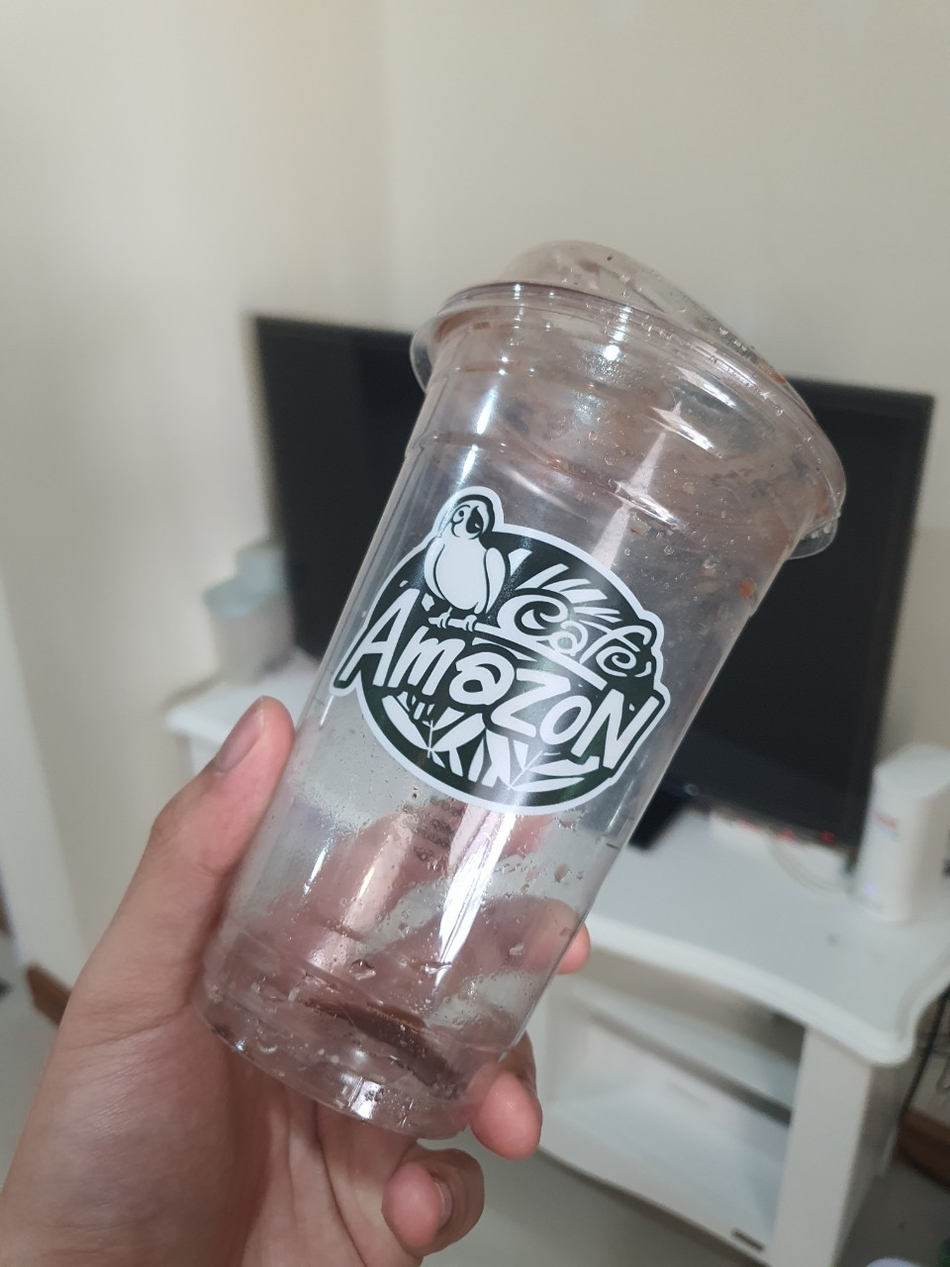plastic: (171, 216, 860, 1155)
